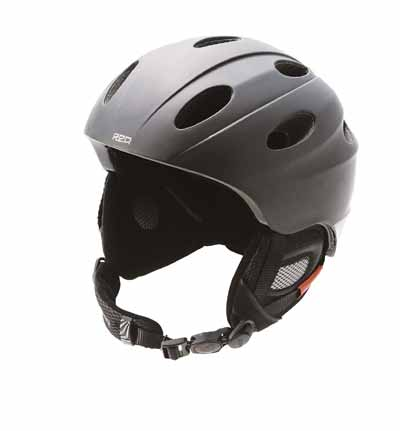helmet: (97, 40, 376, 250)
